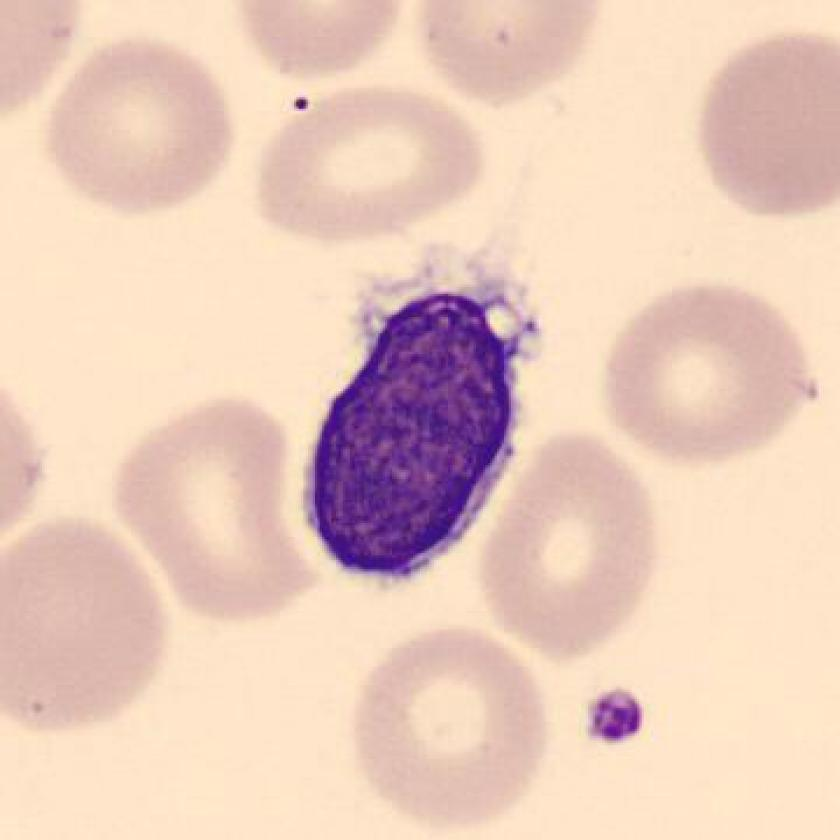lymphocyte: (281, 254, 556, 601)
platelets: (576, 686, 653, 748)
